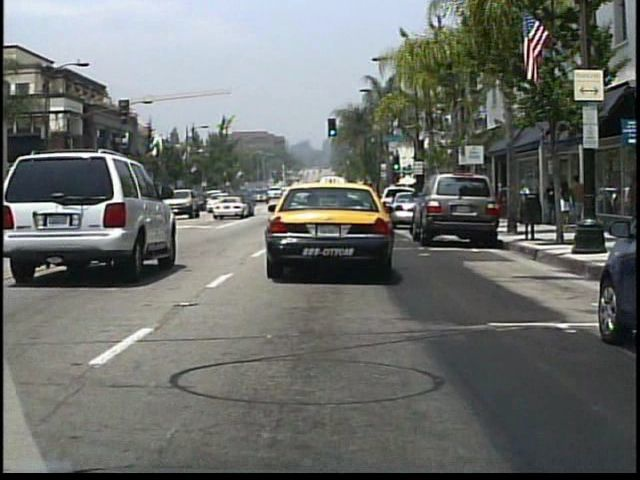person: (571, 172, 591, 231), (542, 176, 559, 225), (560, 175, 574, 229)
